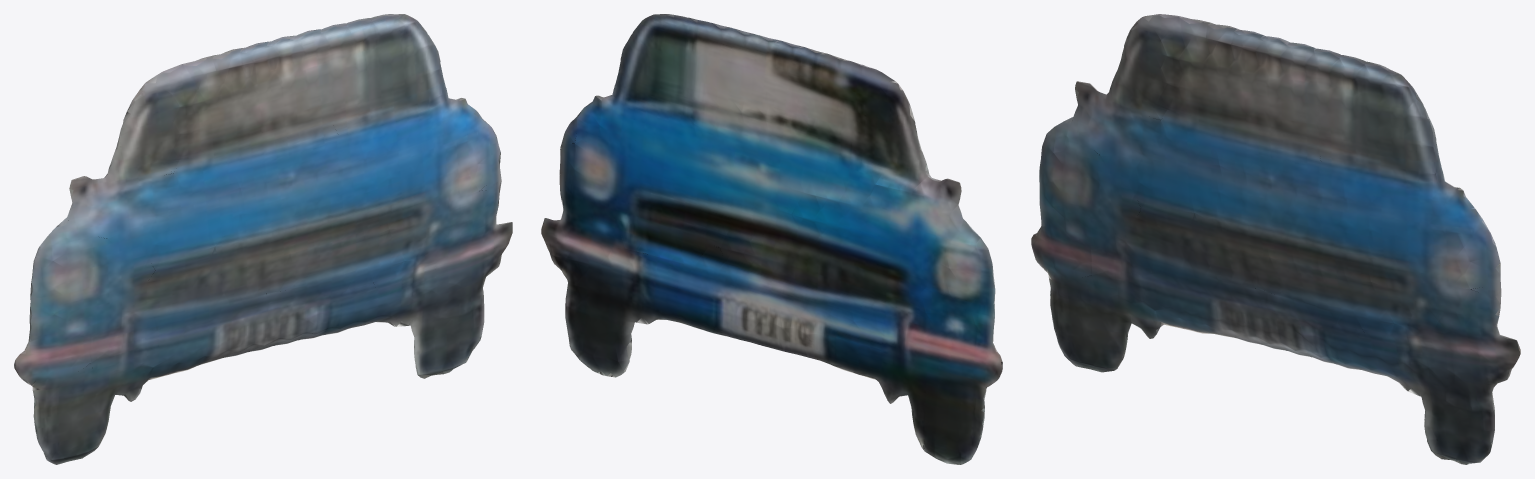
Rendered from image.glb.
3 views of the same model, side by side, from view 1: azimuth 30°, elevation 25°; view 2: azimuth 150°, elevation 25°; view 3: azimuth 330°, elevation 25° (orthographic). The views are drawn at different scales.
Visible parts, largest first — view 1: world; view 2: world; view 3: world.
Part boxes in pixels (box(x1,y1,x2,y2)): world: box(14, 14, 512, 464); world: box(541, 14, 1002, 464); world: box(1031, 14, 1520, 464).
Size of the model in its own units: 0.8546 by 0.6435 by 0.0737.
1 material, 1 textured.
